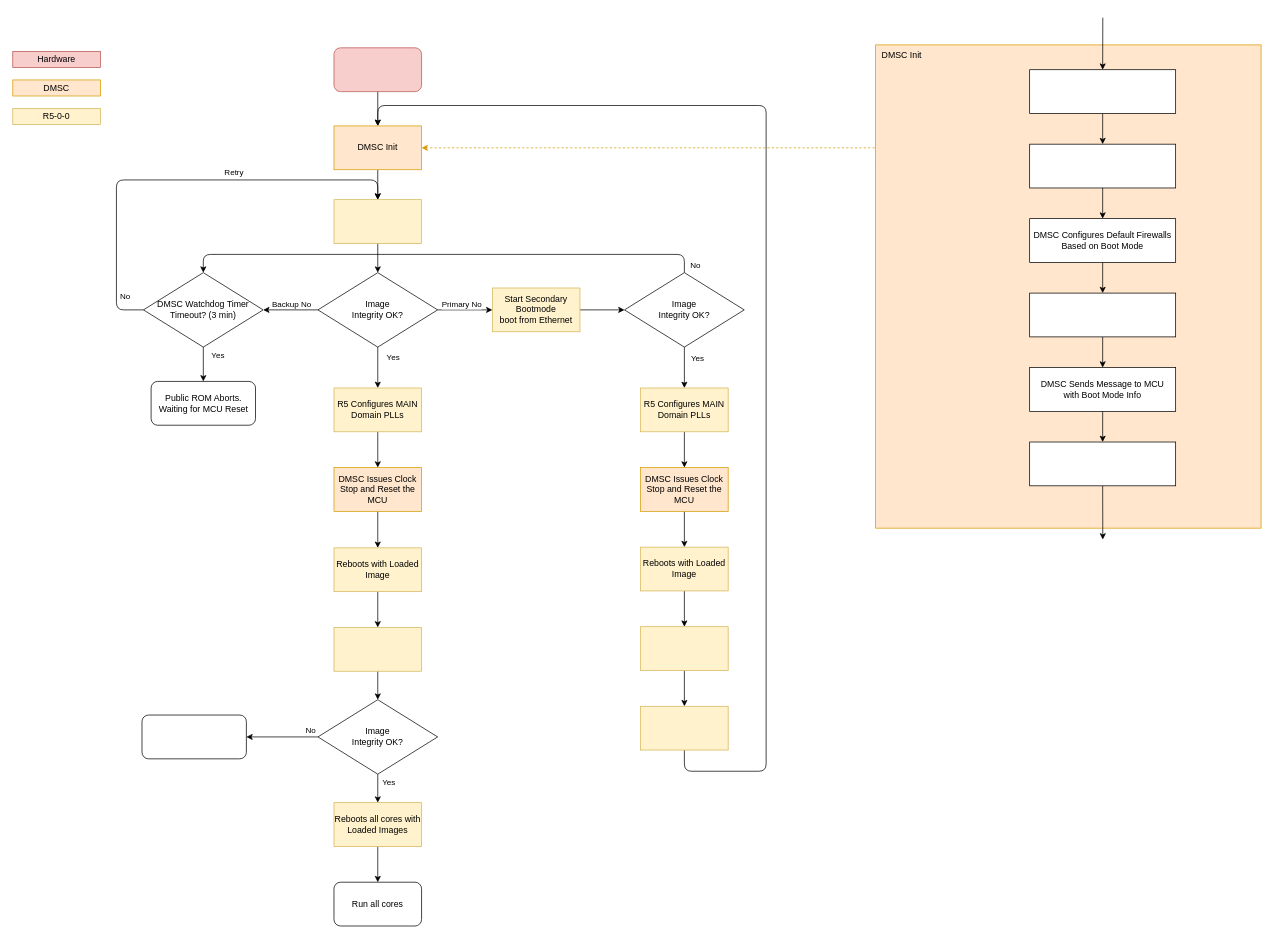
Some shapes in this 1274 by 940 pixel diagram are drawn without their labels. Here are the shapes that lost their labels. From the top down, the centre of each, then its label:
(x=377, y=69): Power On
(x=1102, y=91): DMSC ROM Configures RTI WDT to 180s
(x=1102, y=165): DMSC ROM Configures PLLCTRL and Locks MCU PLL
(x=377, y=221): Start Primary Bootmode boot from Flash
(x=1102, y=314): DMSC Configures MCU Sec. Proxy/Ring Acc.
(x=1102, y=463): DMSC Releases Reset to R5 CPU0
(x=377, y=649): Load Images in the all cores
(x=684, y=648): Save firmware in the flash memory
(x=193, y=736): Safety shutdown
(x=684, y=728): Reset all system
